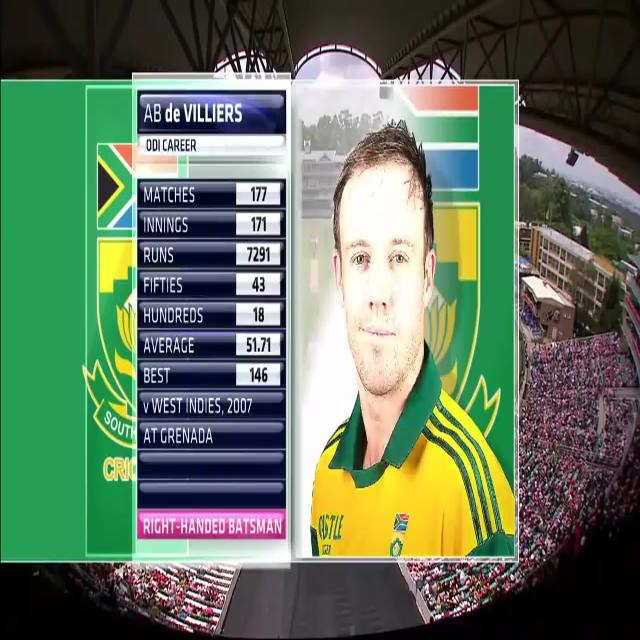Ball: (309, 126, 514, 555)
